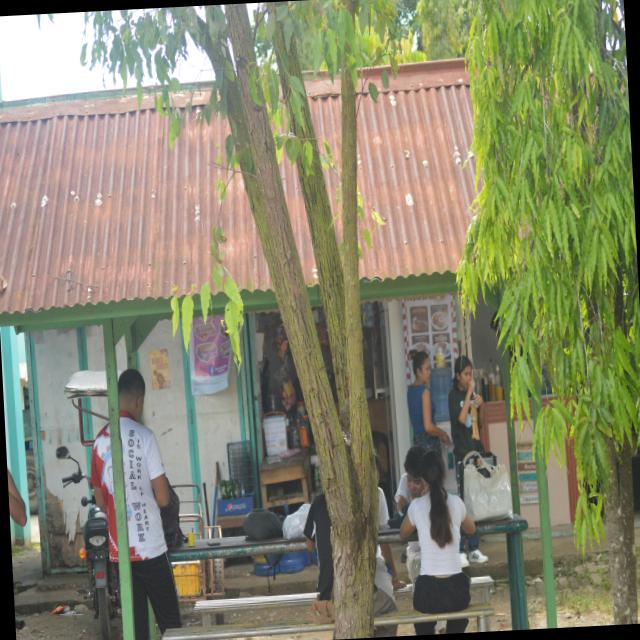person: (118, 370, 182, 639), (401, 451, 475, 614), (408, 352, 451, 454), (448, 356, 484, 474)
